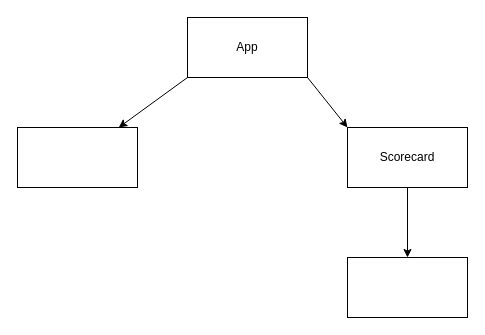
Image size: 485x335. Some labels were removed from this diagram. Here are the shapes that lost their labels. From the top down, the centre of each, then its label:
At pixel 77 157: "Header".
At pixel 407 287: "Card".
